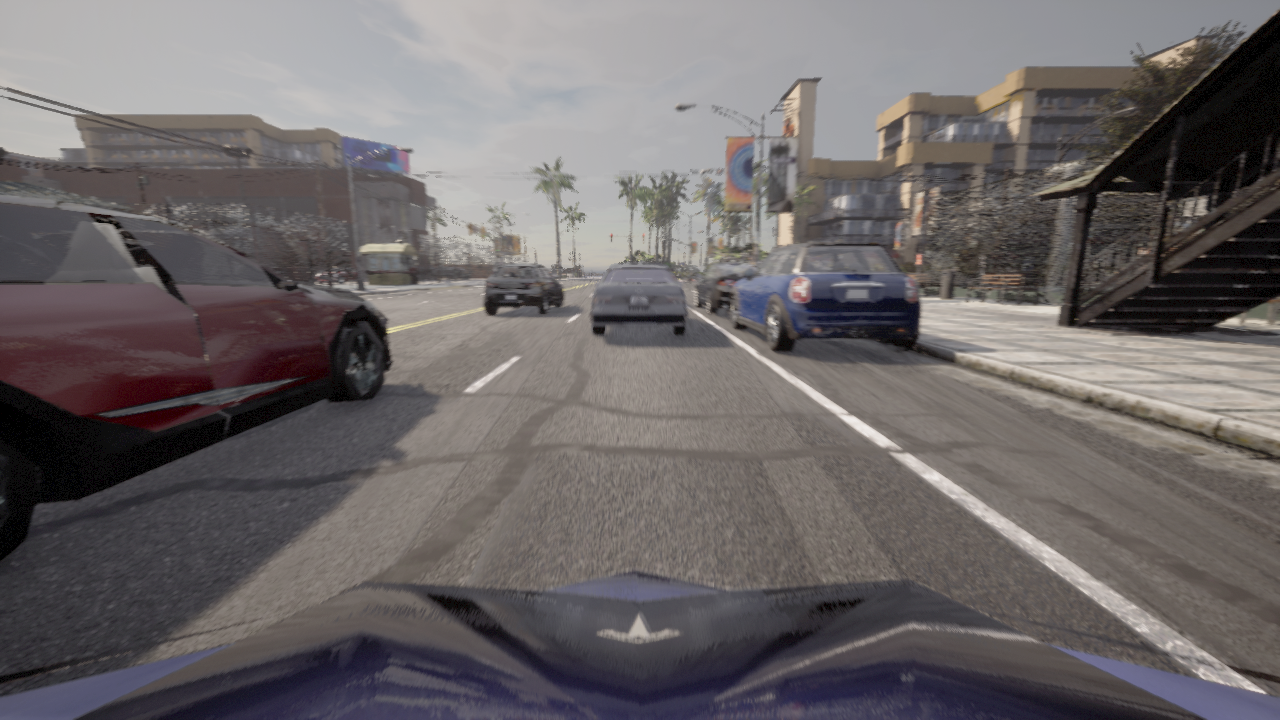cyclist: (0, 569, 1279, 719), (730, 234, 920, 351), (590, 263, 687, 334), (484, 263, 563, 314), (695, 261, 758, 314), (995, 270, 1044, 285), (317, 266, 358, 283), (427, 266, 472, 279), (314, 270, 326, 278), (626, 261, 651, 262)
